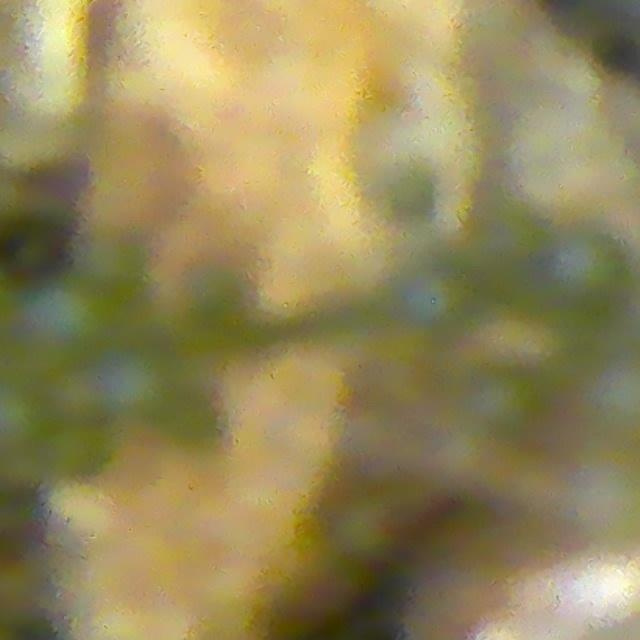SeaGrape: (98, 344, 179, 423), (32, 278, 112, 354), (547, 228, 625, 304), (473, 365, 546, 440), (45, 418, 114, 485), (398, 267, 468, 331), (0, 380, 49, 453)
